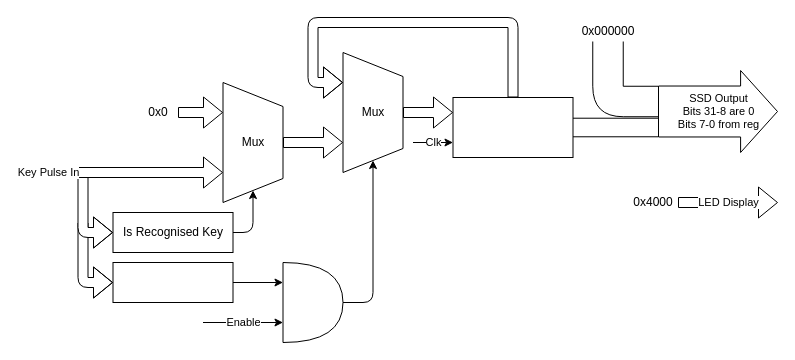
Some shapes in this 795 by 360 pixel diagram are drawn without their labels. The shapes that lost their labels are listed below. From the top down, each one's centre as x and y in pixels, then its label:
At (512,127): "Key to Display 8 bit register".
At (172,282): "Compare != 0".
